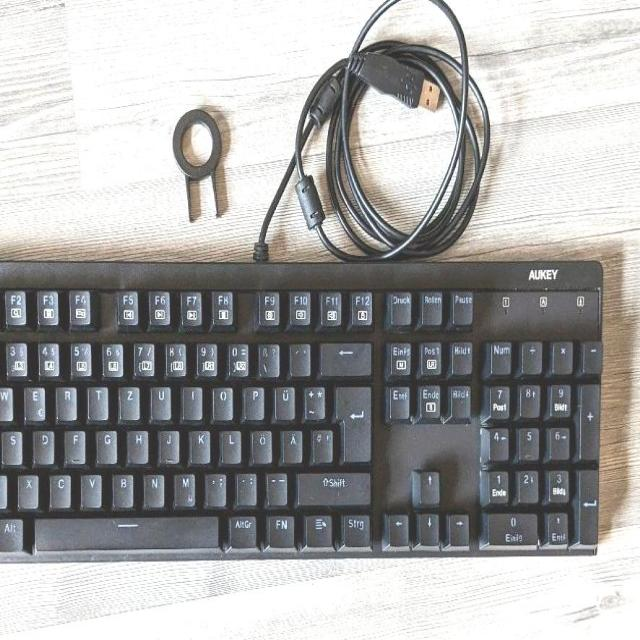0: (227, 341, 248, 377)
1: (0, 339, 12, 377)
2: (0, 337, 12, 376)
3: (5, 339, 28, 376)
4: (38, 340, 60, 378)
5: (69, 338, 91, 376)
6: (101, 339, 124, 376)
7: (134, 340, 155, 376)
8: (164, 341, 186, 377)
9: (196, 341, 217, 377)
a: (0, 427, 11, 464)
accent: (288, 339, 310, 375)
ae: (279, 427, 302, 462)
alt-left: (0, 515, 23, 550)
altgr-right: (228, 512, 257, 546)
b: (111, 470, 134, 505)
c: (48, 471, 71, 506)
caret: (0, 339, 11, 375)
comma: (205, 470, 226, 505)
d: (32, 427, 53, 463)
del: (317, 338, 371, 374)
e: (23, 383, 45, 420)
enter: (335, 381, 371, 462)
f: (63, 427, 85, 462)
g: (95, 427, 116, 462)
h: (126, 427, 148, 462)
hash: (310, 427, 333, 462)
i: (181, 383, 202, 418)
j: (158, 427, 179, 461)
k: (188, 427, 210, 462)
keyboard: (0, 255, 605, 570)
l: (219, 427, 240, 462)
less: (0, 472, 11, 507)
m: (172, 470, 195, 506)
minus: (265, 470, 288, 504)
n: (142, 470, 165, 505)
o: (212, 385, 233, 420)
oe: (250, 427, 272, 462)
p: (242, 383, 264, 418)
plus: (303, 383, 324, 419)
point: (235, 470, 256, 504)
q: (0, 383, 12, 420)
r: (54, 383, 77, 419)
s: (0, 428, 22, 463)
shift-left: (0, 471, 14, 508)
shift-lock: (0, 427, 22, 463)
shift-right: (295, 469, 371, 503)
space: (32, 513, 220, 548)
ss: (257, 340, 279, 376)
strg-left: (0, 516, 14, 550)
strg-right: (340, 511, 372, 545)
t: (87, 383, 108, 418)
tab: (0, 382, 18, 420)
u: (150, 382, 171, 418)
ue: (272, 382, 295, 419)
v: (80, 471, 101, 505)
w: (0, 383, 13, 420)
x: (17, 471, 38, 506)
y: (0, 472, 11, 507)
z: (118, 383, 139, 418)
